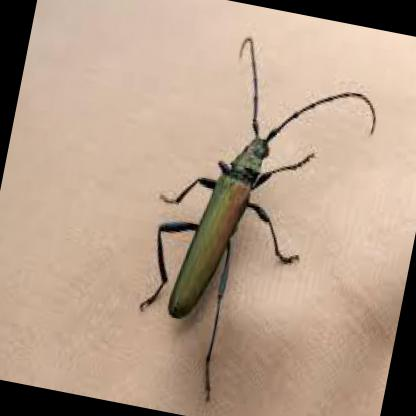blister beetle: (161, 48, 343, 317)
